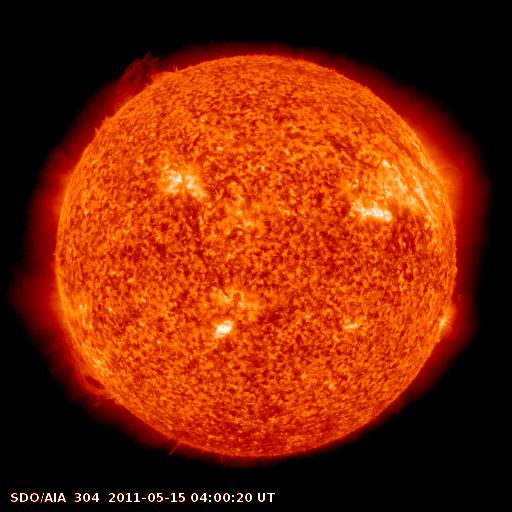prominence: (54, 329, 135, 413), (102, 47, 180, 113)
